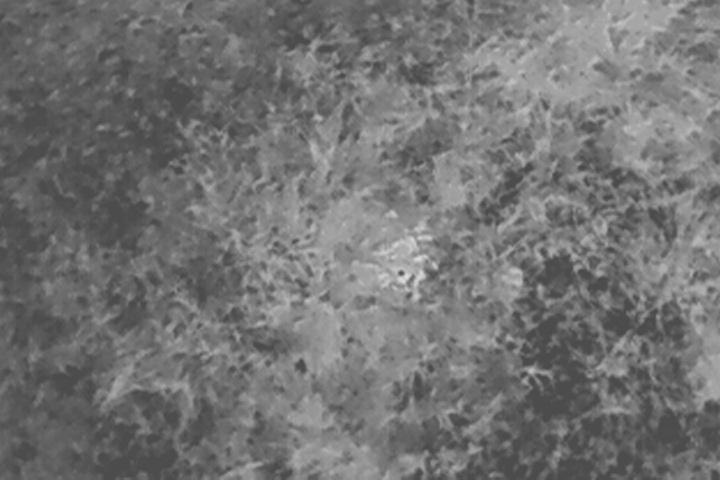landmine: (329, 198, 441, 311)
